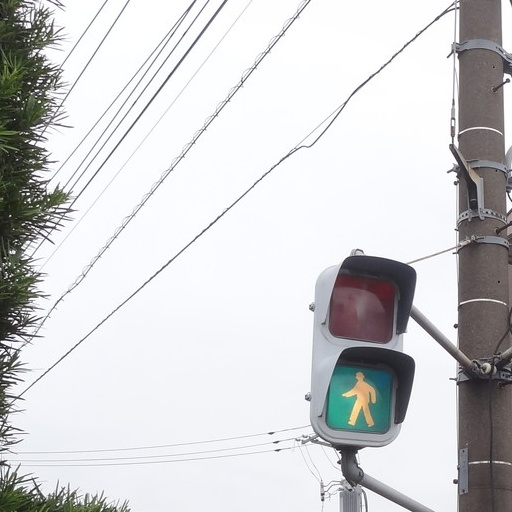Pedestrian_Signal_Blue: (316, 260, 409, 441)
